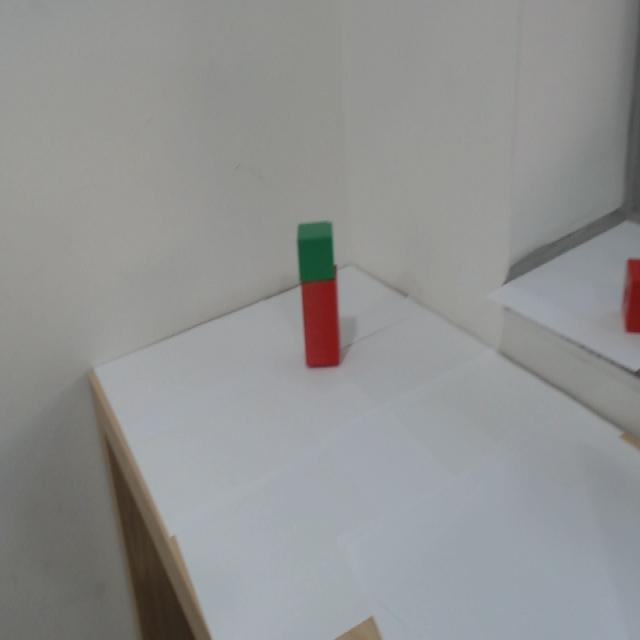cube: (289, 216, 349, 276)
